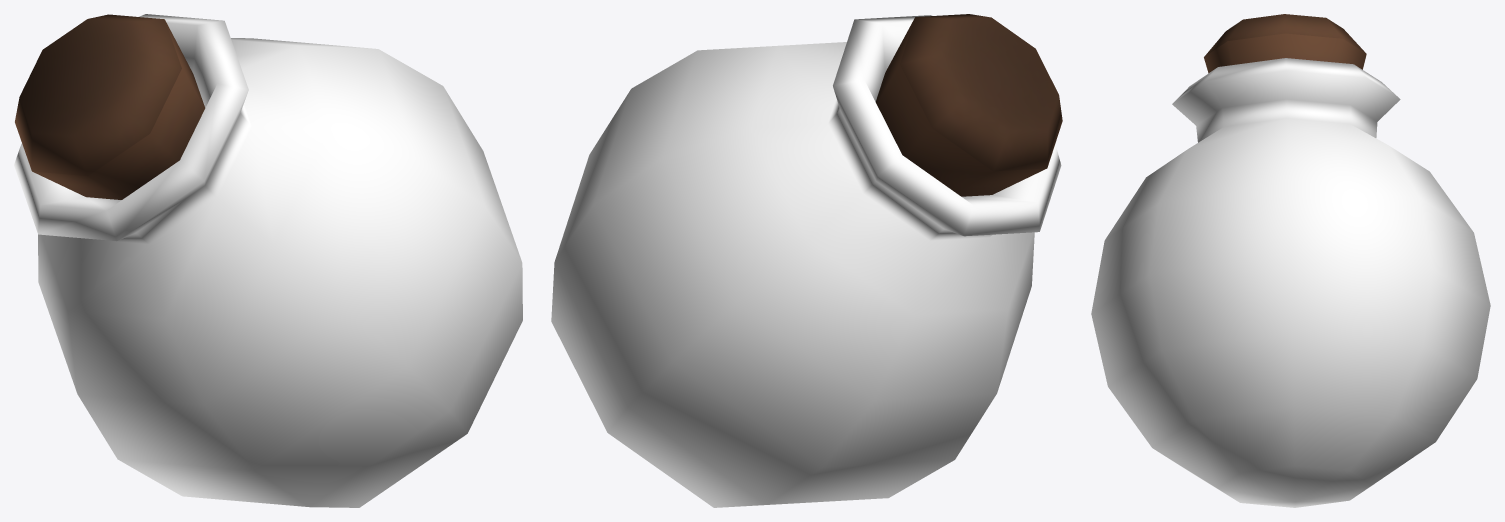
Rendered from blood_bottle.glb.
3 renders of one model, left to right at view 1: azimuth 30°, elevation 25°; view 2: azimuth 150°, elevation 25°; view 3: azimuth 270°, elevation 25°, orthographic. The views are drawn at different scales.
Parts seen in each view (by area): view 1: pSphere1, pCylinder1; view 2: pSphere1, pCylinder1; view 3: pSphere1, pCylinder1.
Part boxes in pixels (box(x1,y1,x2,y2)): pSphere1: box(14, 14, 522, 507); pCylinder1: box(15, 14, 205, 199); pSphere1: box(551, 15, 1061, 507); pCylinder1: box(875, 14, 1062, 196); pSphere1: box(1091, 58, 1490, 507); pCylinder1: box(1204, 14, 1366, 73).
Bounding box in the file's own units: 0.0251 × 0.0265 × 0.0231.
Materials: 2 (2 with a texture image).
